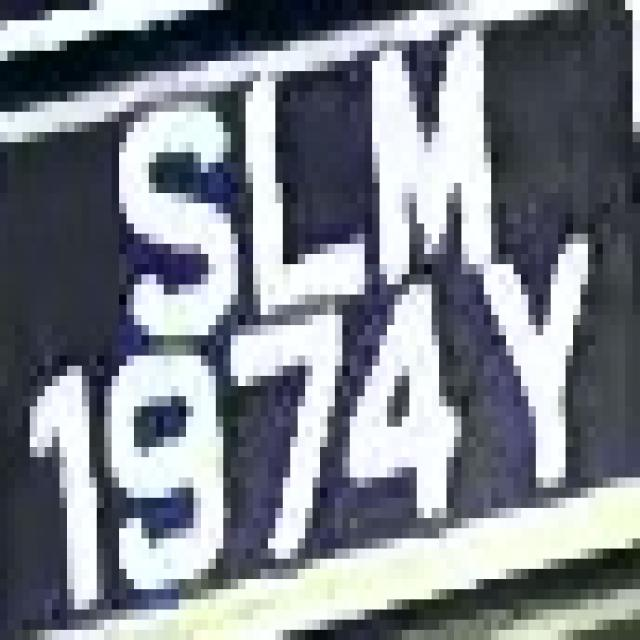1: (22, 325, 119, 630)
4: (328, 234, 477, 548)
7: (216, 315, 350, 620)
9: (74, 304, 246, 610)
L: (231, 61, 372, 335)
M: (342, 51, 506, 264)
S: (97, 71, 275, 386)
Y: (462, 203, 610, 518)
